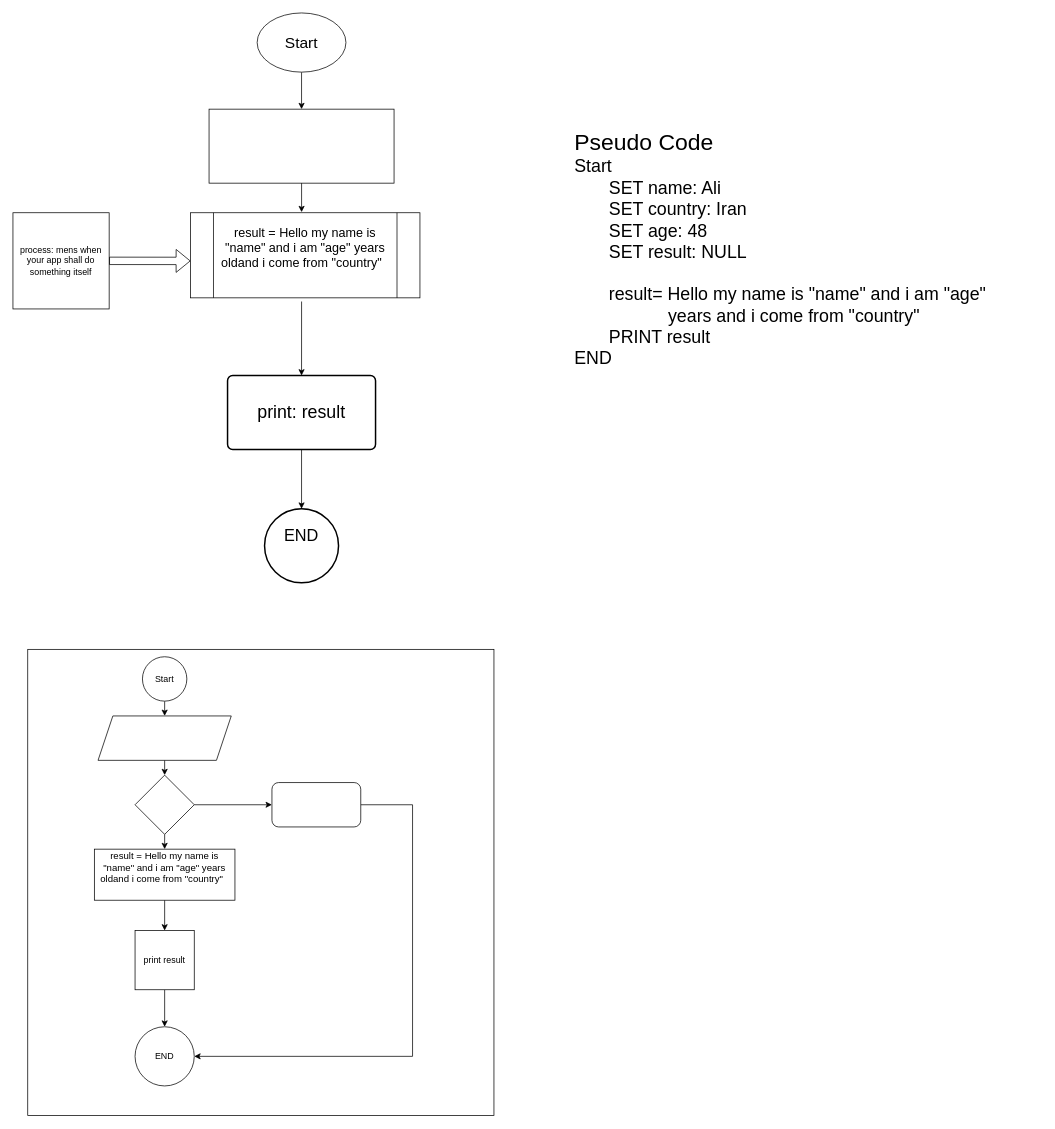
The diagram is 1055 pixels wide and 1129 high, and some of its shapes have lost their labels. The box of each missing label's shape, as (x1, y1, x2, y2) in pixels:
all inputs exists: (134, 774, 194, 834)
define Variablen name : "Ali" country : "Iran" age : "48" result: NULL: (208, 108, 394, 183)
input: name, country, age: (97, 715, 231, 760)
print Error: (271, 782, 361, 827)
Text Generator Process: (27, 649, 494, 1116)
